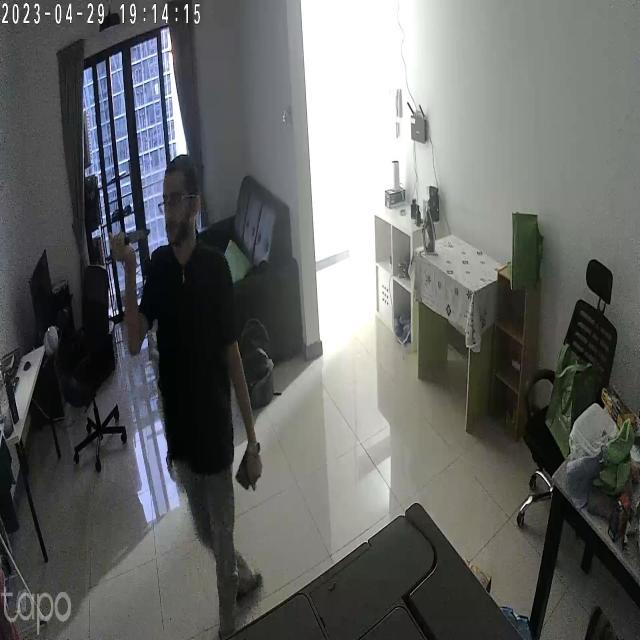Knife: (109, 220, 158, 257)
